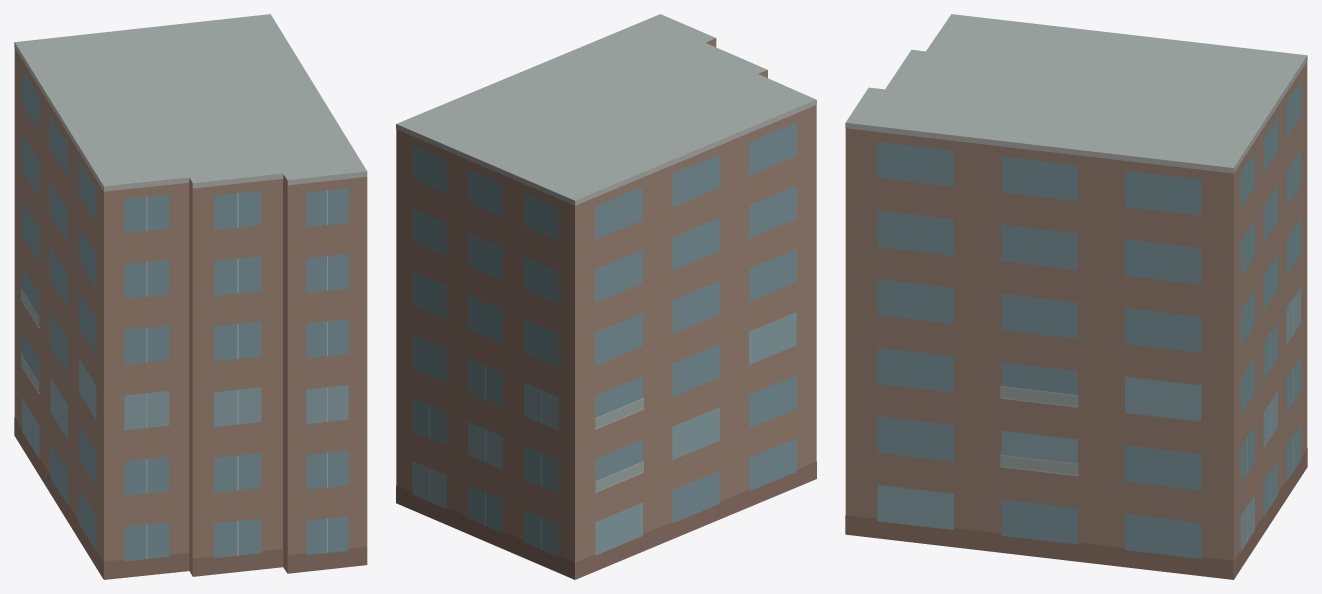
Rendered from survey-upis-32730768.glb.
The picture shows the model from 3 angles, left to right: view 1: azimuth 30°, elevation 25°; view 2: azimuth 150°, elevation 25°; view 3: azimuth 270°, elevation 25°; orthographic projection. The views are drawn at different scales.
Visible parts, largest first — view 1: survey-upis-32730768.tmp; view 2: survey-upis-32730768.tmp; view 3: survey-upis-32730768.tmp.
Boxes of the visible parts, left/top/right/bottom form: survey-upis-32730768.tmp: left=14, top=14, right=367, bottom=579; survey-upis-32730768.tmp: left=396, top=14, right=816, bottom=579; survey-upis-32730768.tmp: left=845, top=14, right=1307, bottom=579.
Size of the model in its own units: 14.69 by 18.3 by 18.61.
